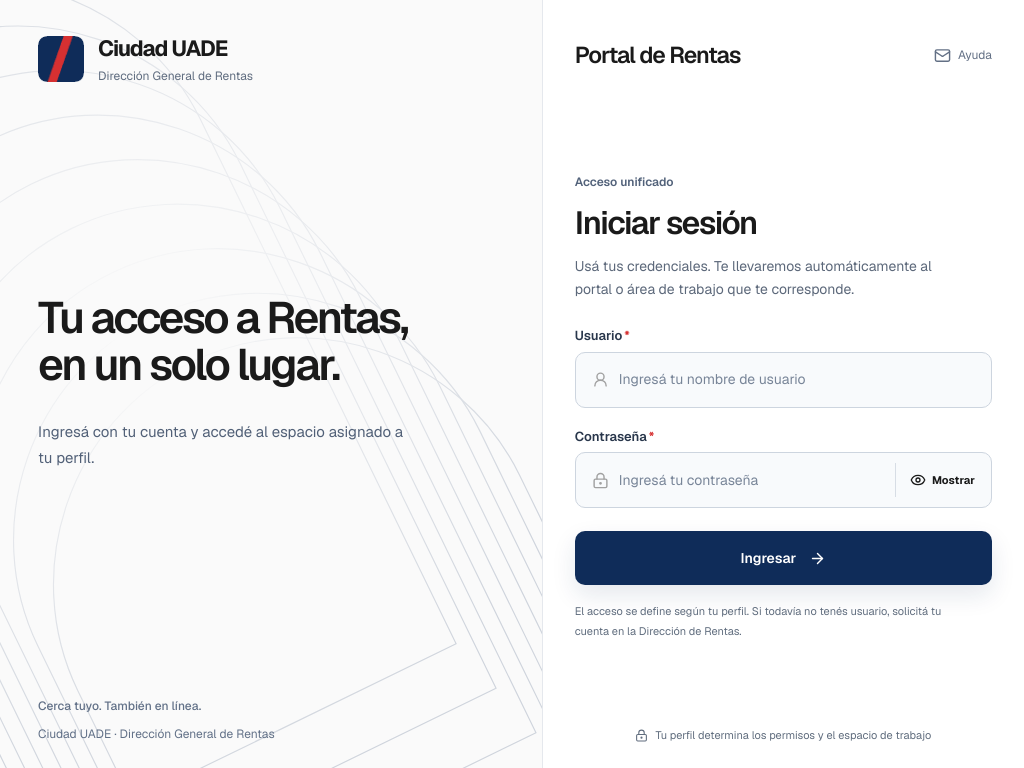
Test: área de auditoría › abre Contribuyentes desde el menú lateral
This screenshot has width=1024, height=768.
In the field labelled "Usuario*": [797, 380] box [619,366,975,394], type "acastro"
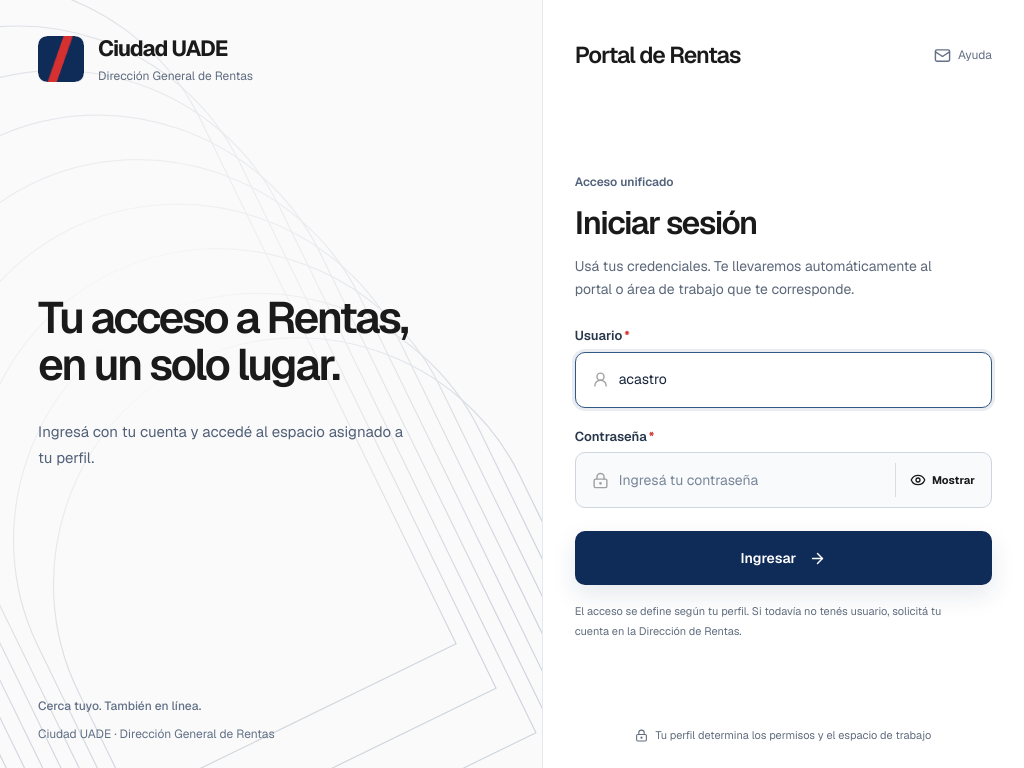
In the password field labelled "Contraseña*": [750, 480] box [619,466,881,494], type "audit123"
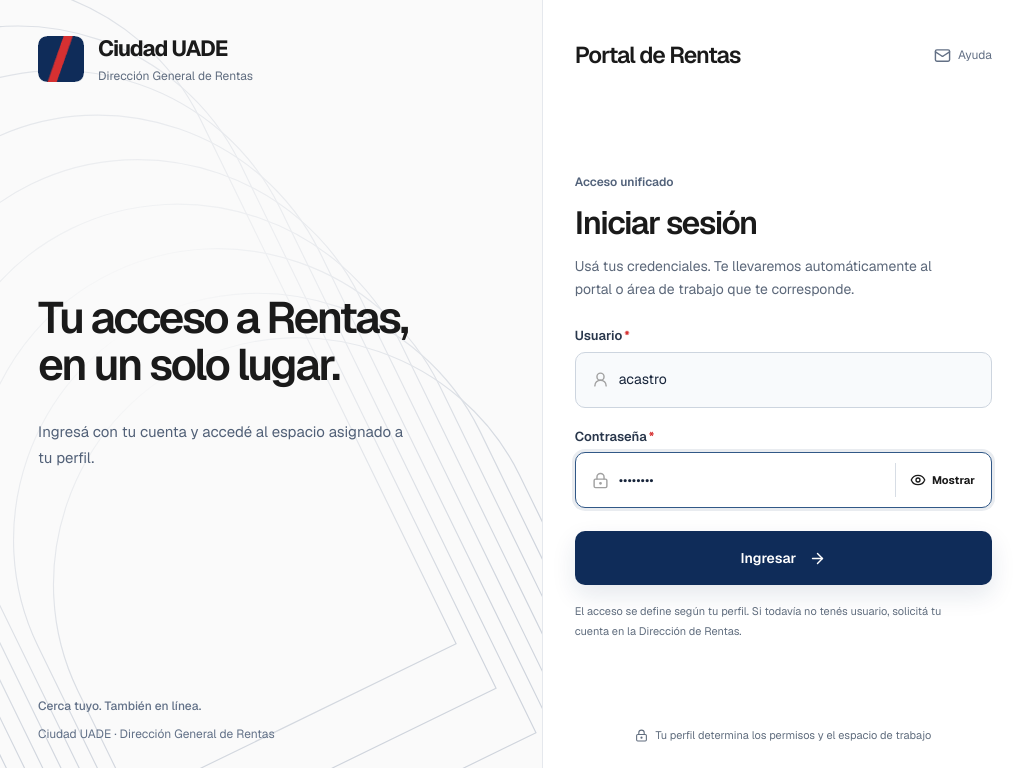
Click the button "Ingresar": [783, 558] box [575,531,992,585]
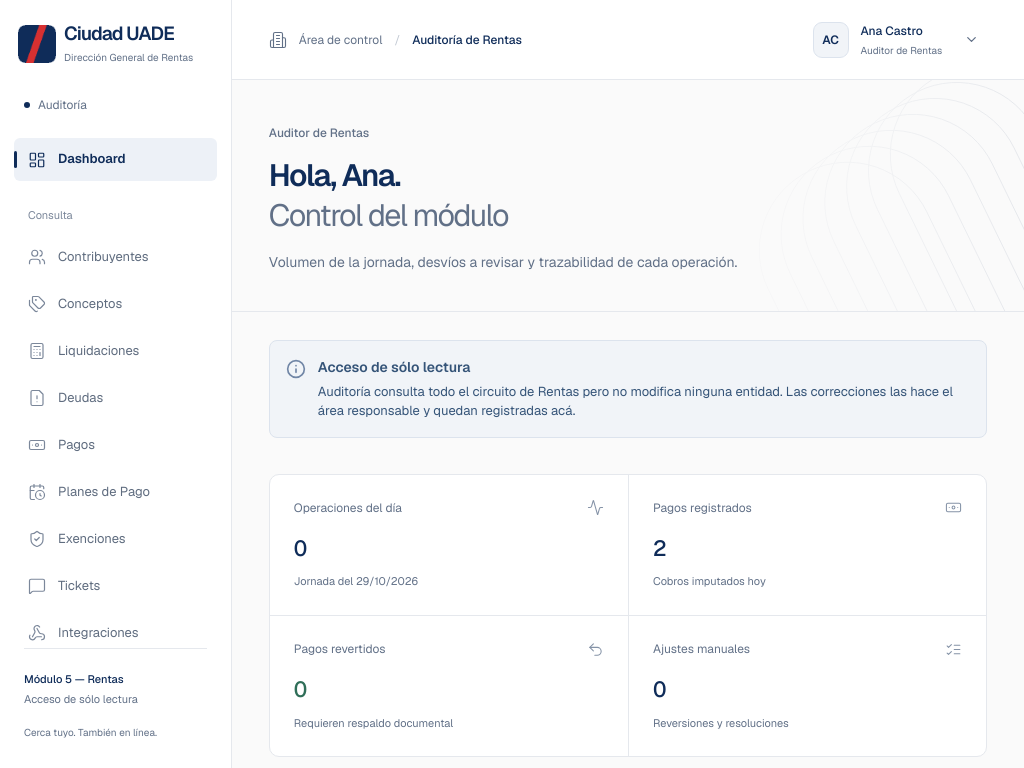
Now the heading "Hola, Ana. Control del módulo" is shown, box [269,155,508,235]
Click the link "Contribuyentes": [88, 257] box [28,248,148,266]
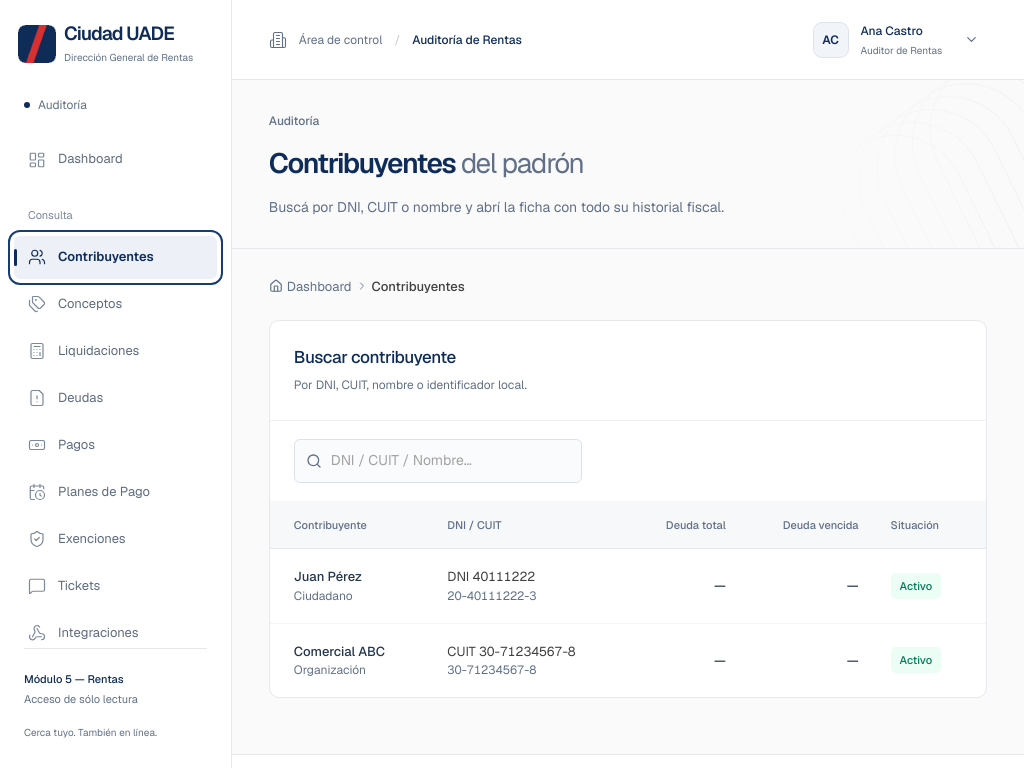
Now the text "Contribuyentes" below "del padrón" is shown, box [372,278,465,294]
